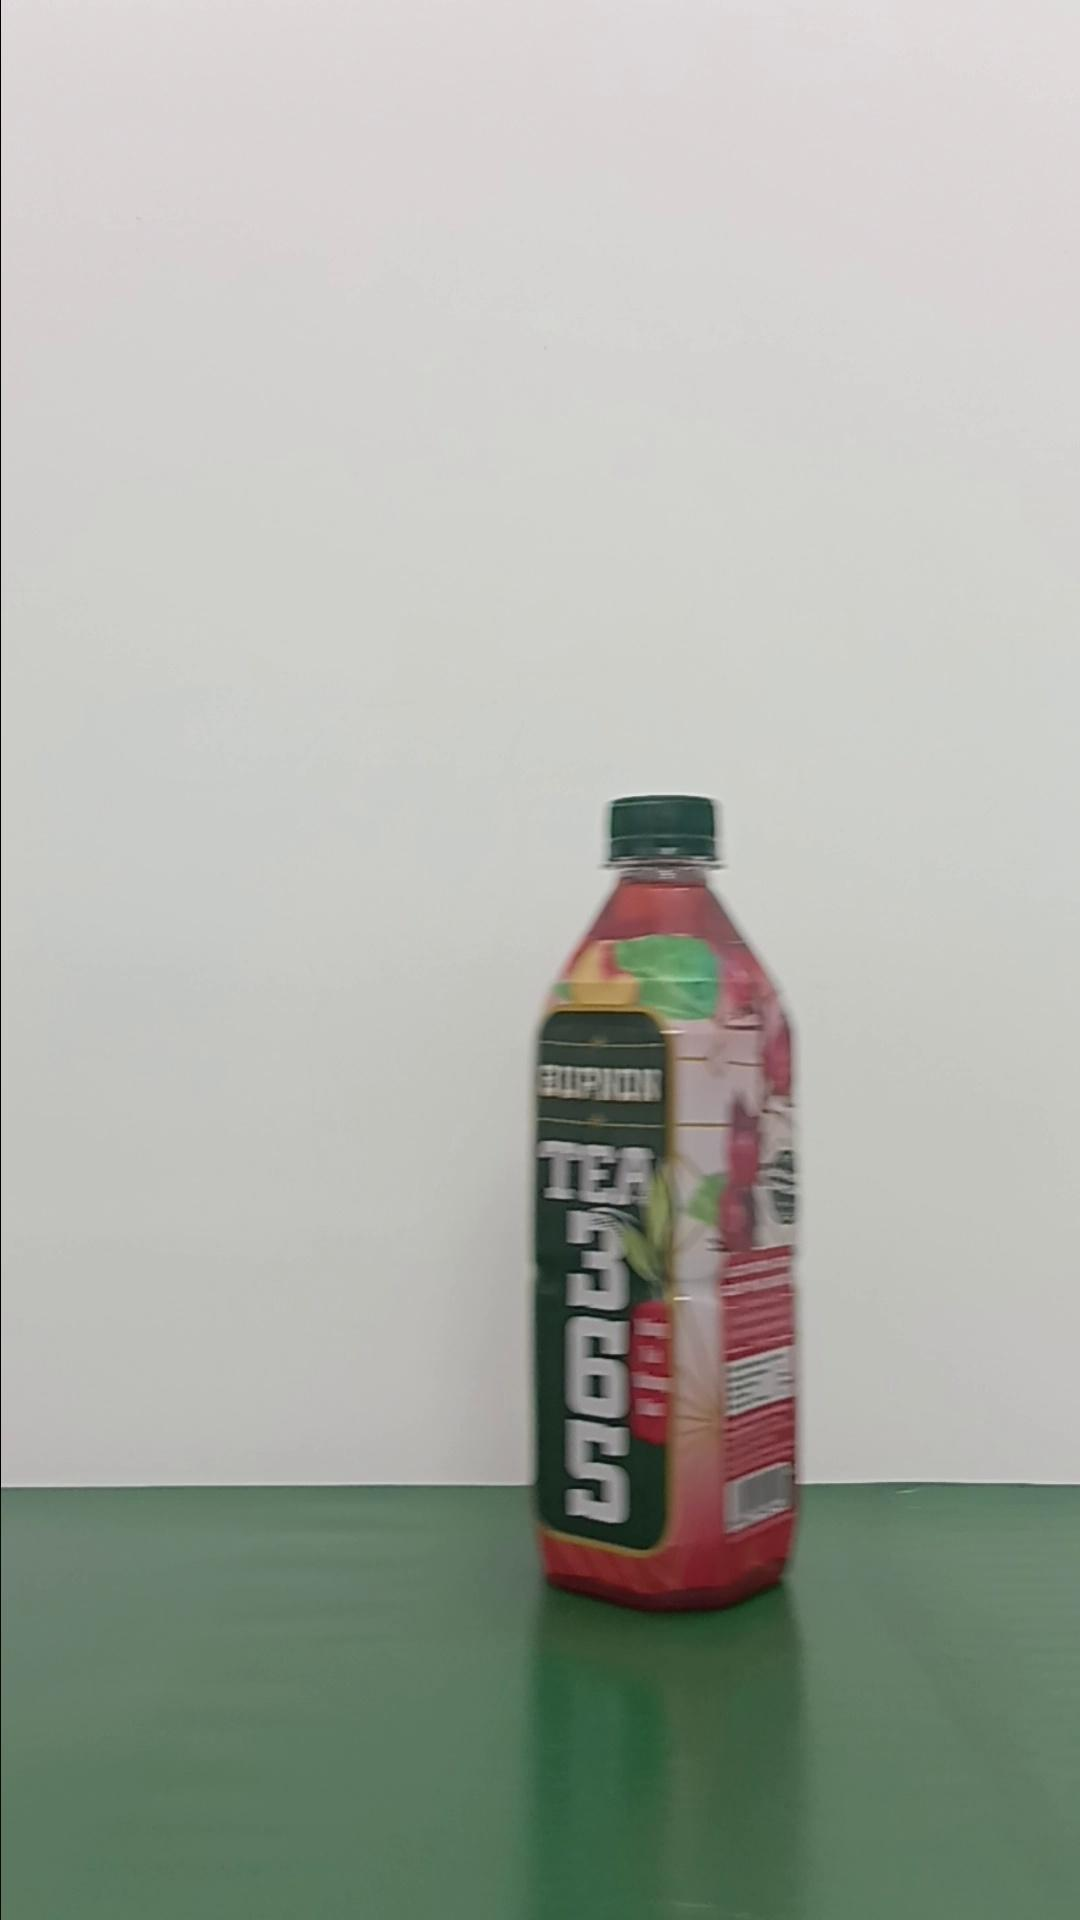khong loi: (527, 791, 803, 1613)
